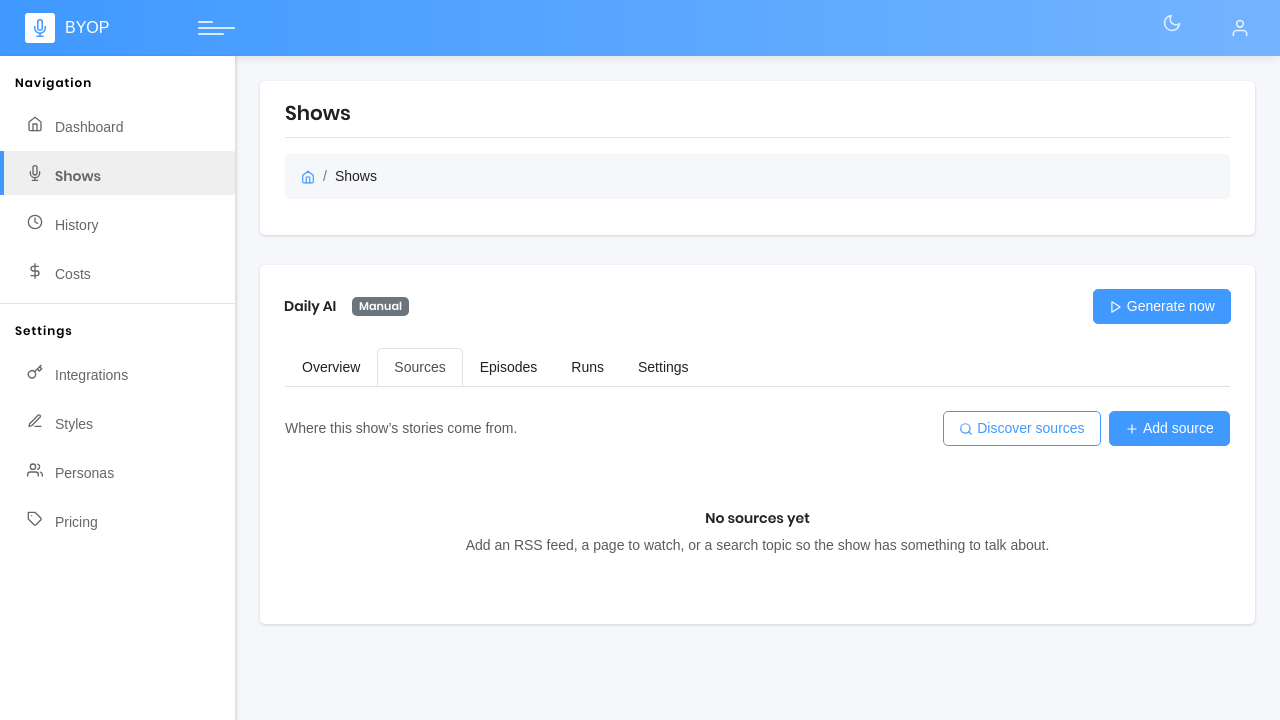
Test: the discovery model › explains a failure with the provider’s reason
This screenshot has width=1280, height=720.
Expected: the button "Add source" is shown, [1109, 411, 1230, 446]
Click the button "Discover sources": (1022, 428) [943, 411, 1101, 446]
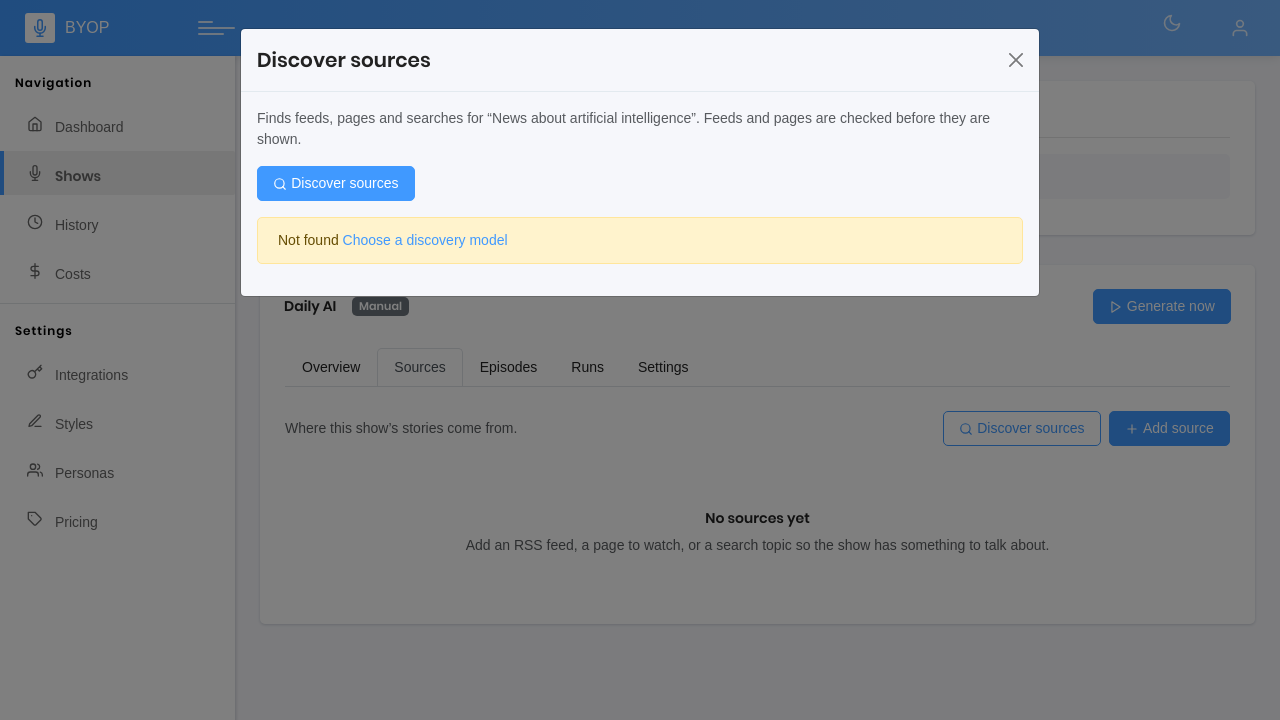
Click the button "Discover sources": (336, 184) [257, 166, 415, 201]
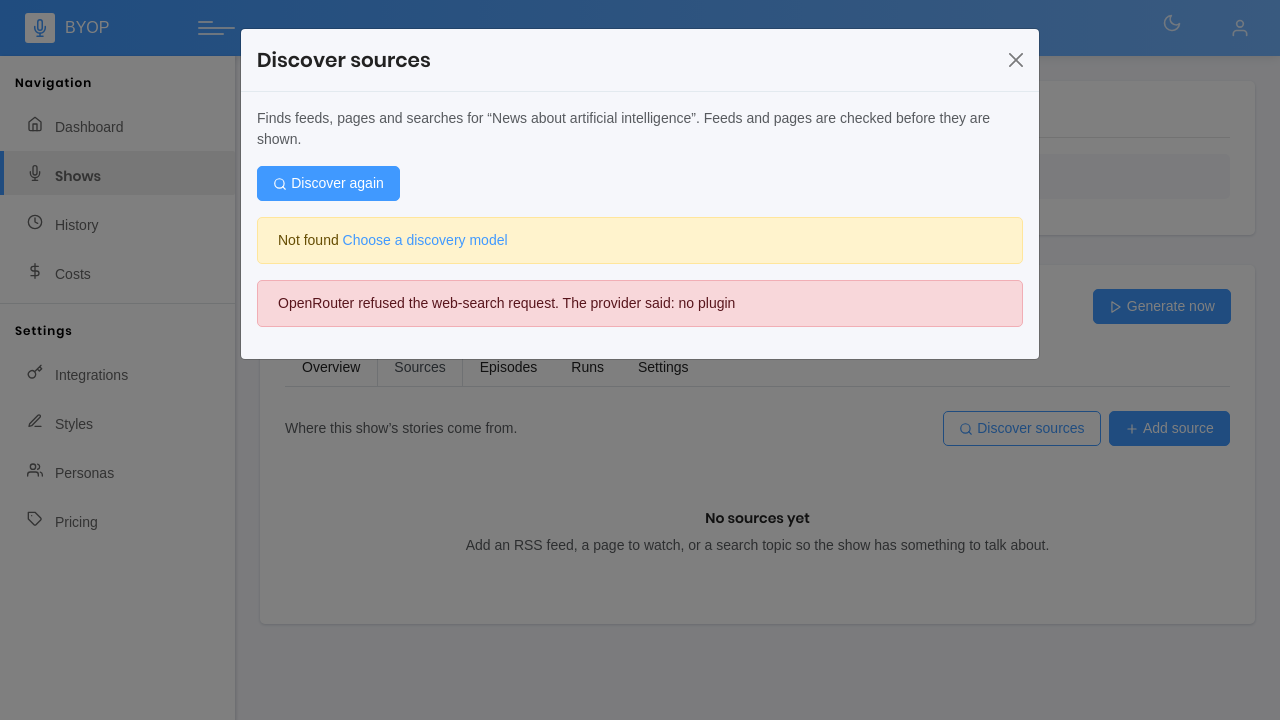
Expected: the message reads "OpenRouter refused the web-search request. The provider said: no plugin", [278, 295, 735, 311]
